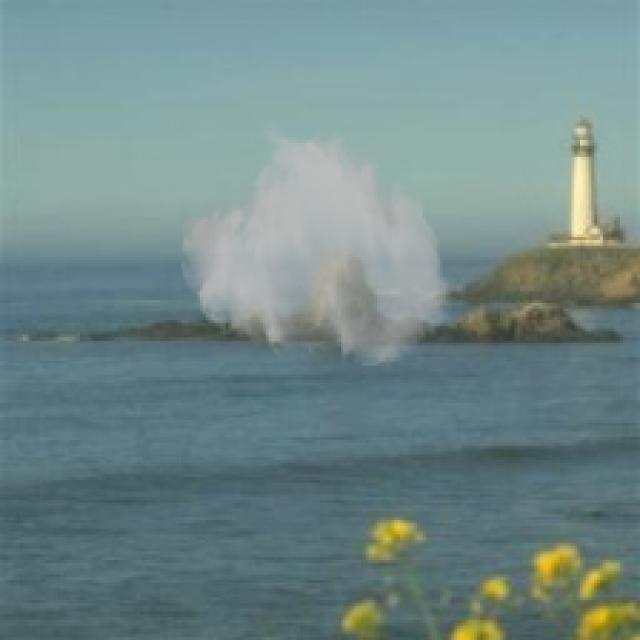smoke: (177, 123, 454, 368)
